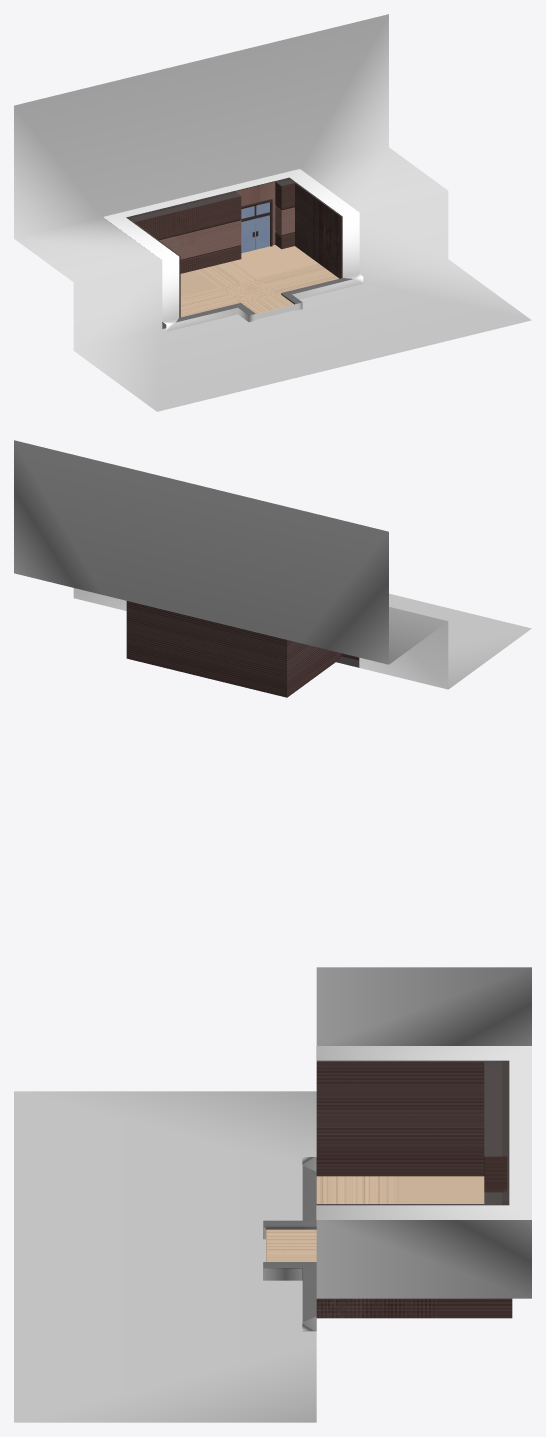
The model's file is a_com_building_b04.gltf.
The picture shows the model from 3 angles, top to bottom: view 1: azimuth 30°, elevation 25°; view 2: azimuth 150°, elevation 25°; view 3: azimuth 270°, elevation 25°; orthographic projection. The views are drawn at different scales.
Visible parts, largest first — view 1: a_com_building_b04_outsideblank01_mesh_shape:a_com_building_, um_a_com_building_b04_model_a_com_building_b04_modelShape:a_ (×6), nomerge_outside_edge_shape:mat_texture_edge02, a_com_building_b04_ceiling01_mesh_shape:a_com_building_b04_c; view 2: a_com_building_b04_outsideblank01_mesh_shape:a_com_building_, um_a_com_building_b04_model_a_com_building_b04_modelShape:a_; view 3: a_com_building_b04_outsideblank01_mesh_shape:a_com_building_, um_a_com_building_b04_model_a_com_building_b04_modelShape:a_ (×4), nomerge_outside_edge_shape:mat_texture_edge02, a_com_building_b04_ceiling01_mesh_shape:a_com_building_b04_c.
Boxes of the visible parts, left/top/right/bottom form: a_com_building_b04_outsideblank01_mesh_shape:a_com_building_: left=14, top=14, right=531, bottom=411; um_a_com_building_b04_model_a_com_building_b04_modelShape:a_ (×6): left=134, top=182, right=352, bottom=328; nomerge_outside_edge_shape:mat_texture_edge02: left=103, top=169, right=363, bottom=331; a_com_building_b04_ceiling01_mesh_shape:a_com_building_b04_c: left=126, top=177, right=342, bottom=256; a_com_building_b04_outsideblank01_mesh_shape:a_com_building_: left=14, top=440, right=531, bottom=689; um_a_com_building_b04_model_a_com_building_b04_modelShape:a_: left=126, top=601, right=359, bottom=697; a_com_building_b04_outsideblank01_mesh_shape:a_com_building_: left=14, top=967, right=531, bottom=1422; um_a_com_building_b04_model_a_com_building_b04_modelShape:a_ (×4): left=263, top=1062, right=512, bottom=1331; nomerge_outside_edge_shape:mat_texture_edge02: left=263, top=1046, right=531, bottom=1330; a_com_building_b04_ceiling01_mesh_shape:a_com_building_b04_c: left=316, top=1060, right=509, bottom=1205.
Bounding box in the file's own units: 28 × 14.38 × 18.5.
9 materials, 7 textured.
